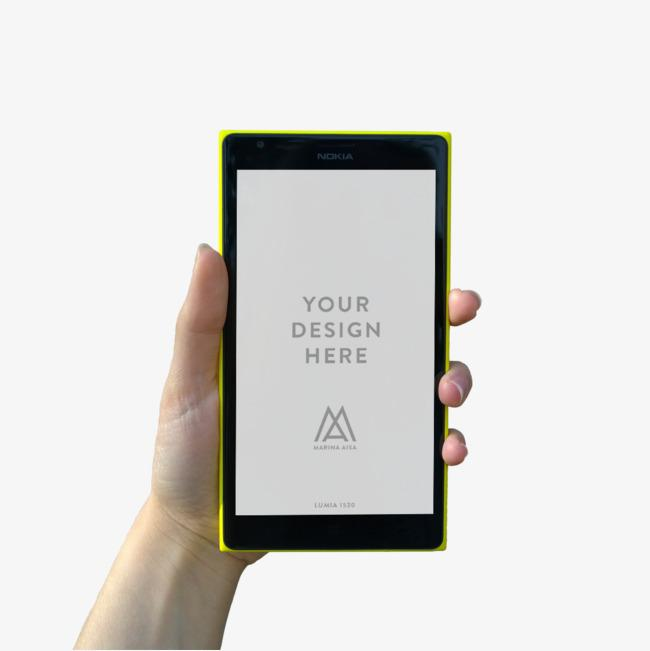phone: (216, 134, 450, 552)
